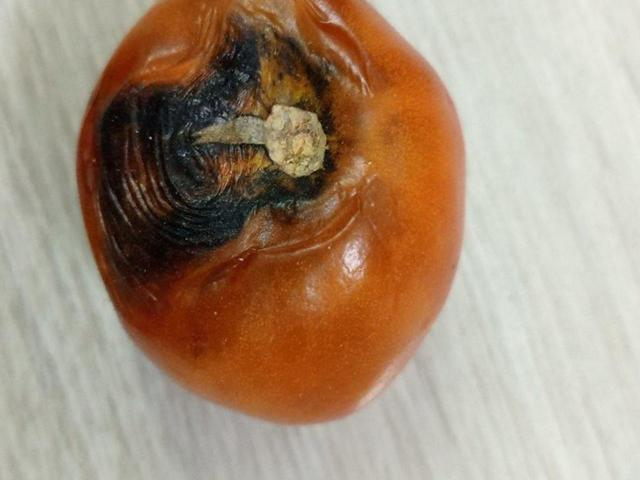defect: (74, 1, 471, 438)
